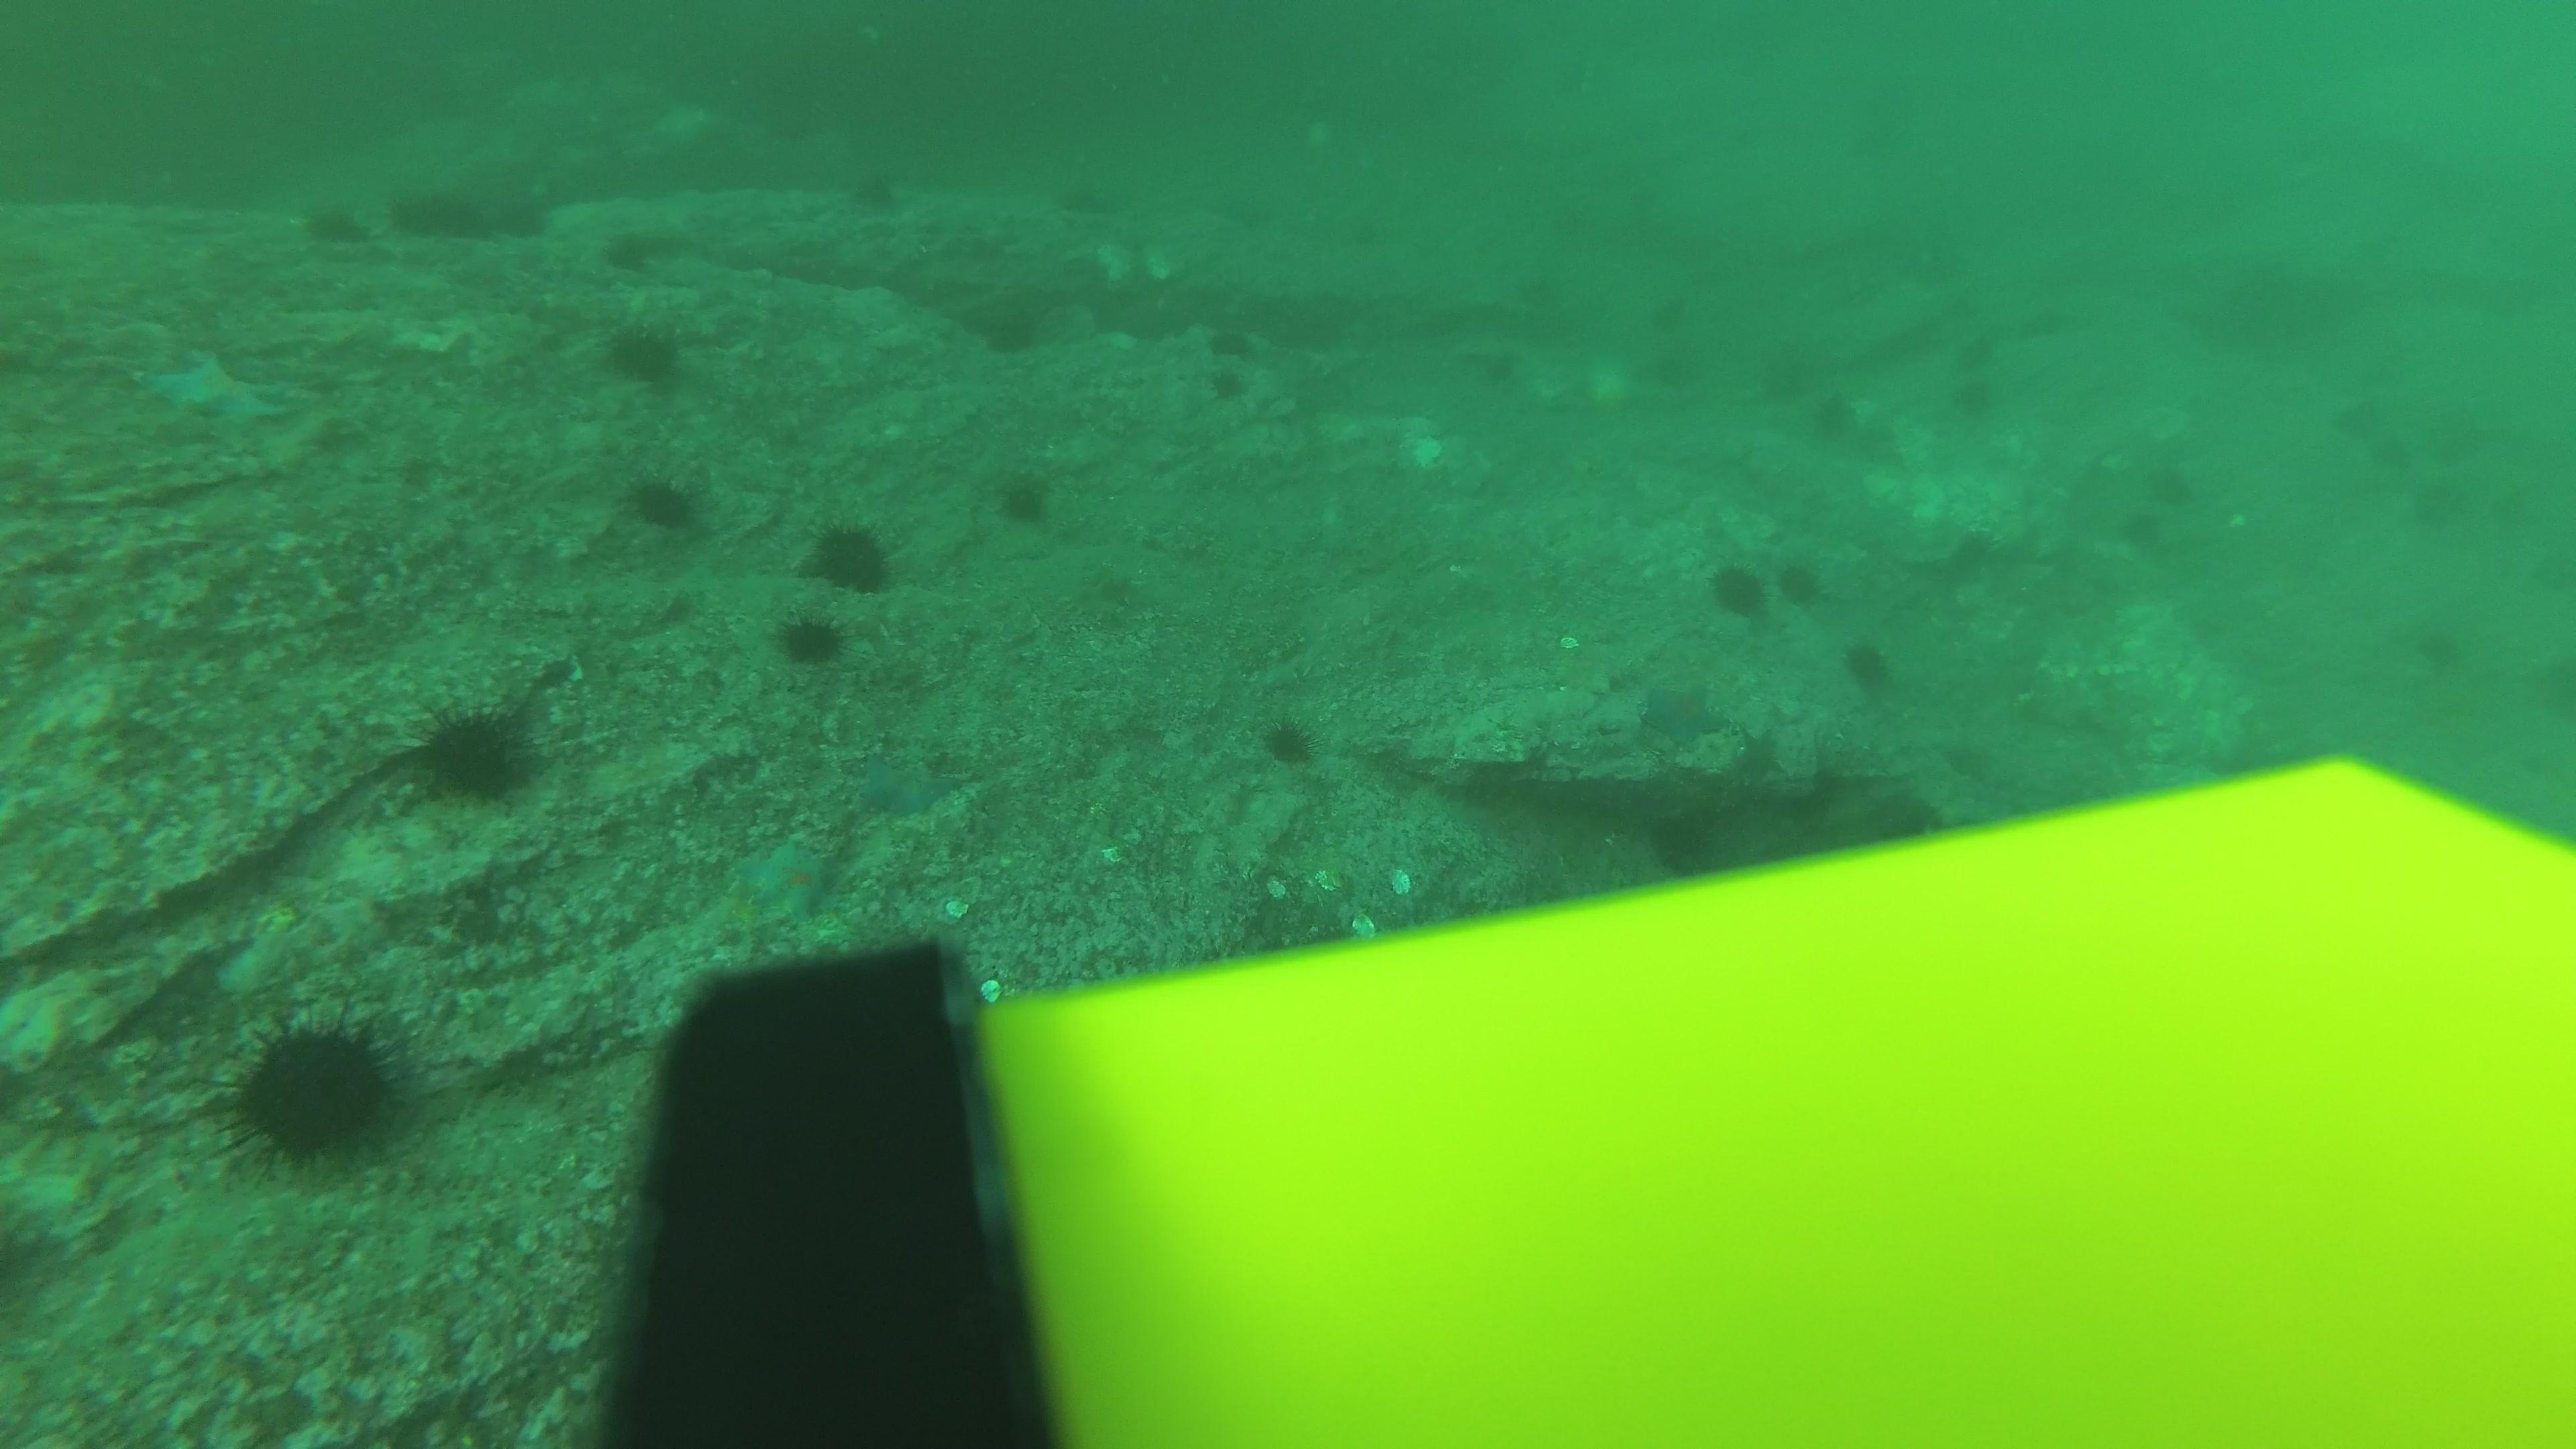echinus: (219, 1010, 410, 1171), (407, 699, 540, 807), (801, 513, 895, 596), (602, 313, 688, 389), (625, 469, 702, 534), (975, 295, 1047, 357), (1201, 327, 1258, 405), (991, 464, 1058, 529), (775, 609, 847, 669), (1707, 556, 1771, 619), (1258, 709, 1320, 770), (1760, 554, 1822, 614), (301, 196, 370, 249), (600, 223, 663, 274), (846, 165, 906, 218), (1840, 635, 1893, 694), (499, 202, 557, 249), (389, 180, 439, 234), (439, 200, 487, 246)
starfish: (136, 345, 297, 430), (718, 826, 842, 931), (847, 750, 970, 821), (1633, 678, 1729, 748), (1734, 727, 1782, 782)
